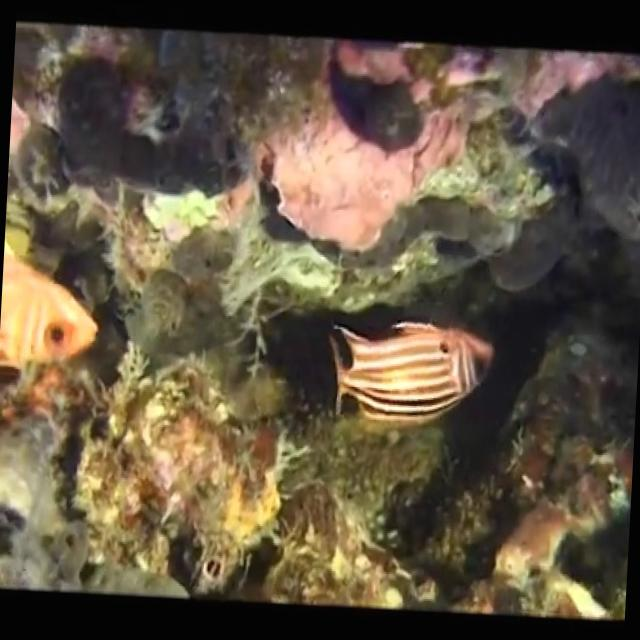Asker Baligi: (320, 311, 496, 432)
